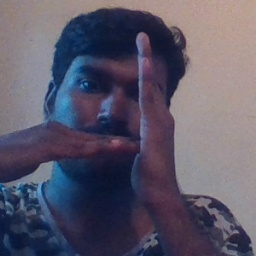Z: (65, 27, 183, 213)
